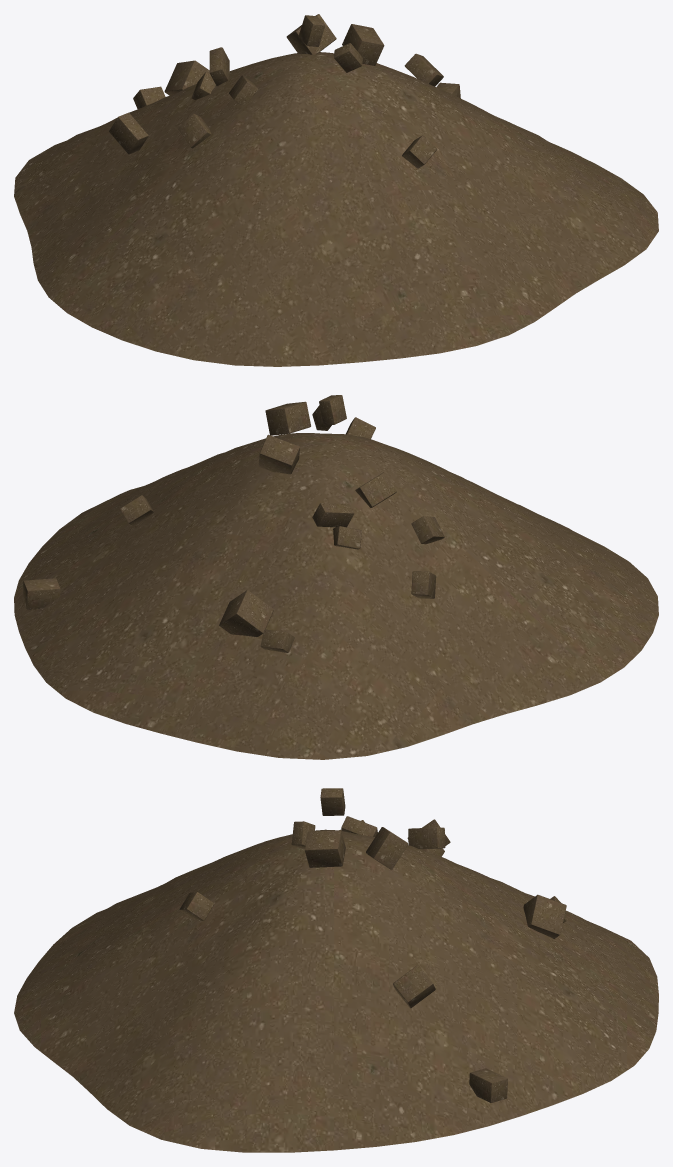
Rendered from TER-SOL-004_lod1.glb.
3 views of the same model, one above another, from view 1: azimuth 30°, elevation 25°; view 2: azimuth 150°, elevation 25°; view 3: azimuth 270°, elevation 25° (orthographic). The views are drawn at different scales.
Visible parts, largest first — view 1: TER-SOL-004_monte, TER-SOL-004_caco4, TER-SOL-004_caco3, TER-SOL-004_caco2, TER-SOL-004_caco6, TER-SOL-004_caco11, TER-SOL-004_caco1, TER-SOL-004_caco13, TER-SOL-004_caco5, TER-SOL-004_caco10, TER-SOL-004_caco8, TER-SOL-004_caco0; view 2: TER-SOL-004_monte, TER-SOL-004_caco2, TER-SOL-004_caco6, TER-SOL-004_caco4, TER-SOL-004_caco12, TER-SOL-004_caco5, TER-SOL-004_caco0, TER-SOL-004_caco10, TER-SOL-004_caco11, TER-SOL-004_caco3, TER-SOL-004_caco9, TER-SOL-004_caco1 (+1 smaller); view 3: TER-SOL-004_monte, TER-SOL-004_caco4, TER-SOL-004_caco2, TER-SOL-004_caco1, TER-SOL-004_caco6, TER-SOL-004_caco12, TER-SOL-004_caco5, TER-SOL-004_caco13, TER-SOL-004_caco10.
Boxes of the visible parts, x1,y1,x2,y2 form: TER-SOL-004_monte: [14, 52, 658, 366]; TER-SOL-004_caco4: [342, 24, 384, 65]; TER-SOL-004_caco3: [109, 112, 148, 154]; TER-SOL-004_caco2: [164, 60, 209, 95]; TER-SOL-004_caco6: [286, 14, 336, 54]; TER-SOL-004_caco11: [177, 113, 211, 148]; TER-SOL-004_caco1: [404, 53, 443, 86]; TER-SOL-004_caco13: [402, 135, 436, 168]; TER-SOL-004_caco5: [209, 47, 229, 86]; TER-SOL-004_caco10: [298, 15, 325, 46]; TER-SOL-004_caco8: [334, 43, 362, 72]; TER-SOL-004_caco0: [229, 75, 257, 104]; TER-SOL-004_monte: [14, 433, 658, 759]; TER-SOL-004_caco2: [219, 590, 273, 636]; TER-SOL-004_caco6: [258, 434, 299, 474]; TER-SOL-004_caco4: [265, 401, 310, 435]; TER-SOL-004_caco12: [22, 578, 60, 609]; TER-SOL-004_caco5: [312, 503, 354, 527]; TER-SOL-004_caco0: [355, 472, 396, 507]; TER-SOL-004_caco10: [319, 395, 346, 424]; TER-SOL-004_caco11: [411, 516, 444, 544]; TER-SOL-004_caco3: [411, 571, 436, 598]; TER-SOL-004_caco9: [260, 629, 294, 652]; TER-SOL-004_caco1: [120, 495, 153, 526]; TER-SOL-004_monte: [14, 829, 658, 1152]; TER-SOL-004_caco4: [304, 830, 345, 867]; TER-SOL-004_caco2: [523, 894, 566, 938]; TER-SOL-004_caco1: [393, 965, 435, 1008]; TER-SOL-004_caco6: [366, 827, 408, 869]; TER-SOL-004_caco12: [469, 1068, 507, 1102]; TER-SOL-004_caco5: [408, 827, 445, 849]; TER-SOL-004_caco13: [179, 892, 214, 921]; TER-SOL-004_caco10: [320, 788, 345, 815].
Size of the model in its own units: 1.78 by 0.6626 by 1.76.
1 material, 1 textured.
